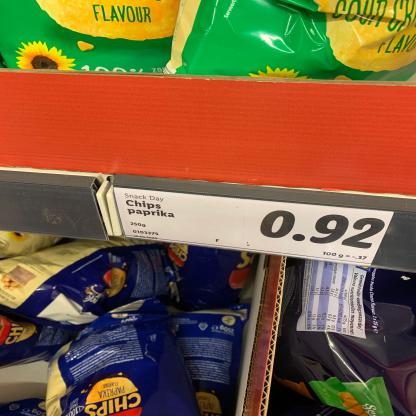prtg: (114, 188, 394, 267)
